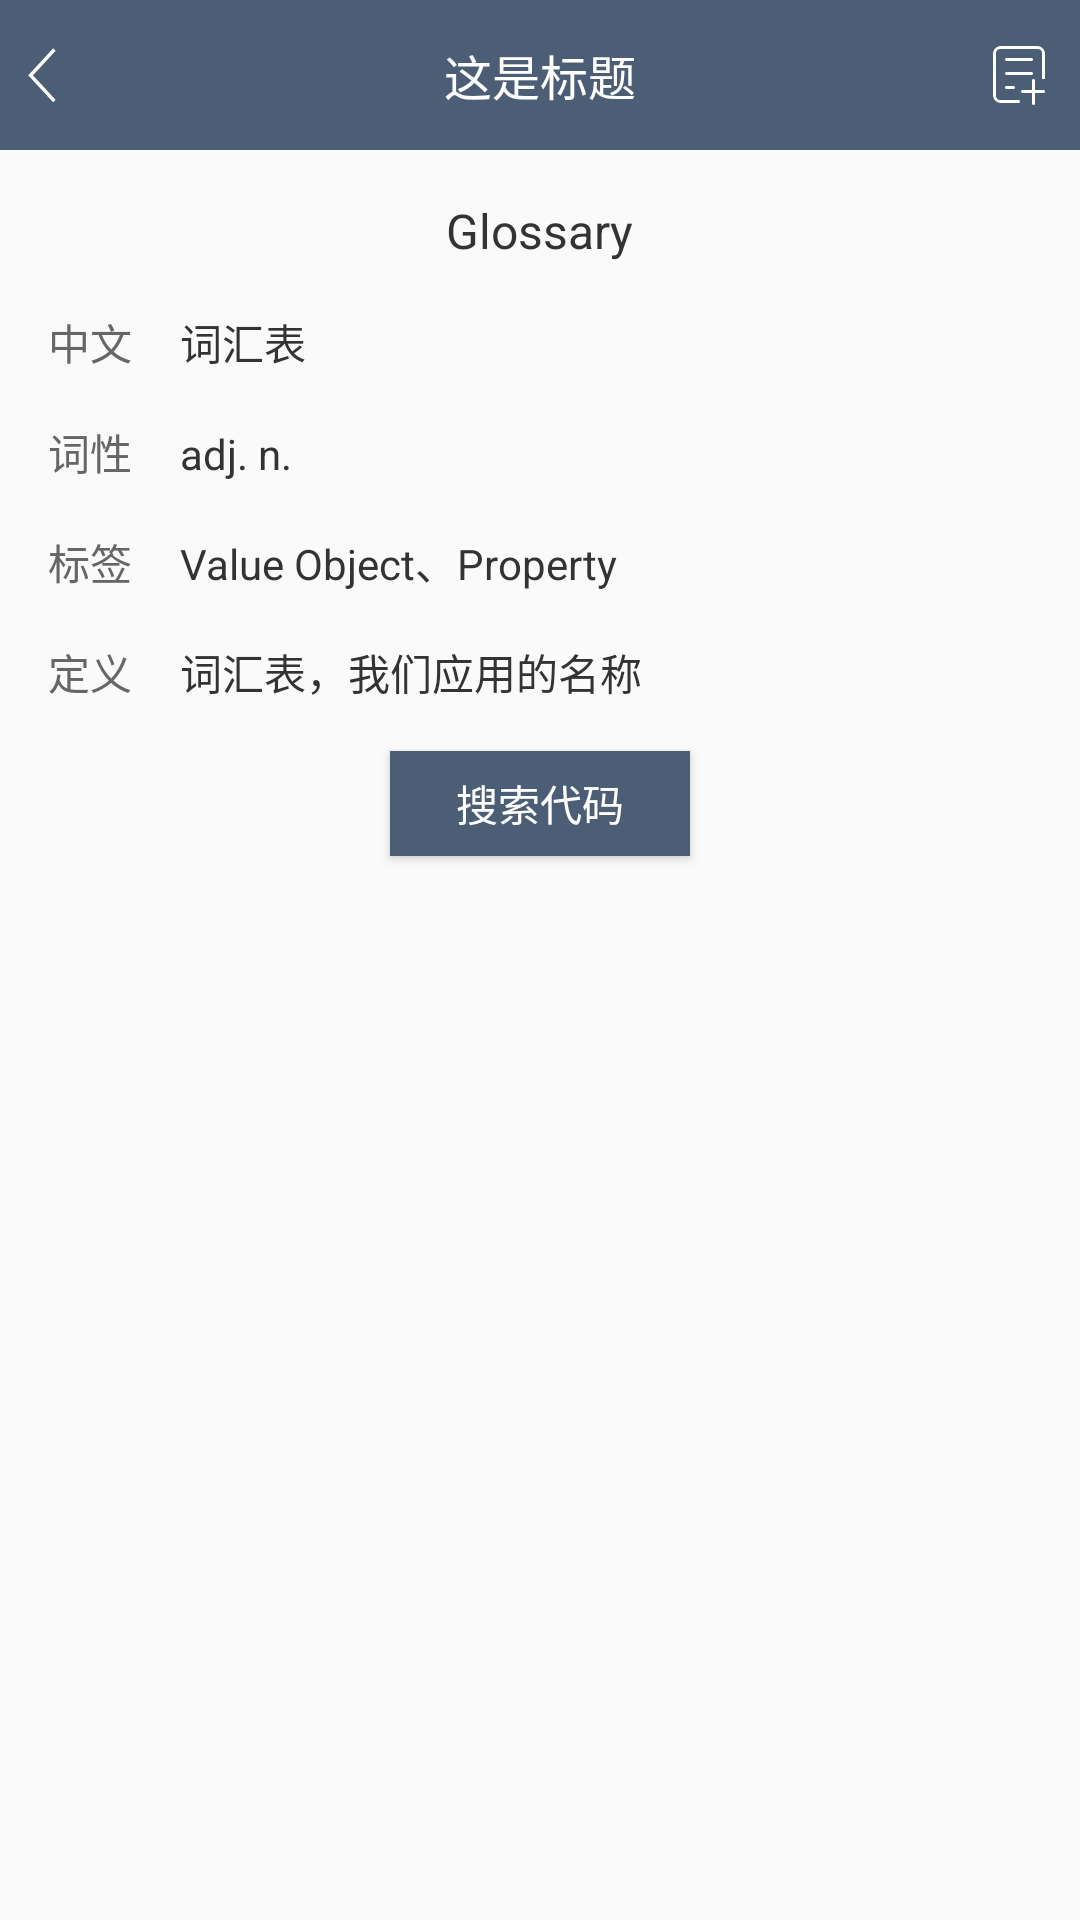

Icon bounding boxes for this 1080w x 1920h phone screenshot, format (x1, y1, x2, y2):
add: (993, 46, 1045, 105)
back: (28, 48, 56, 102)
